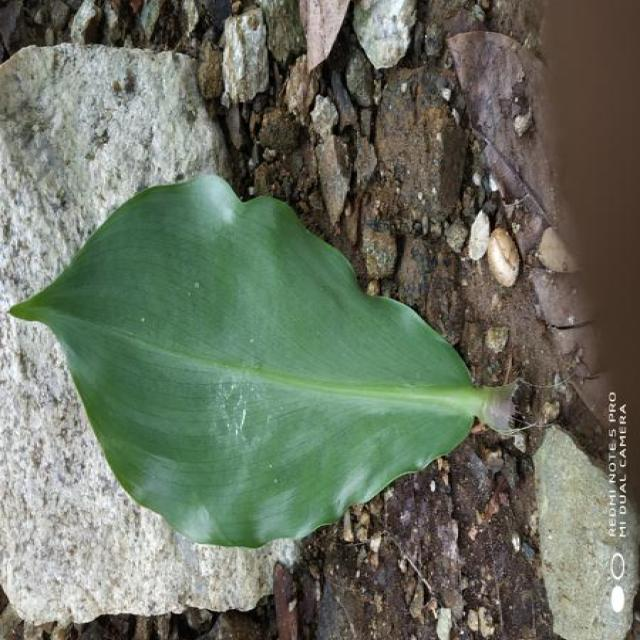insulin: (12, 176, 480, 547)
